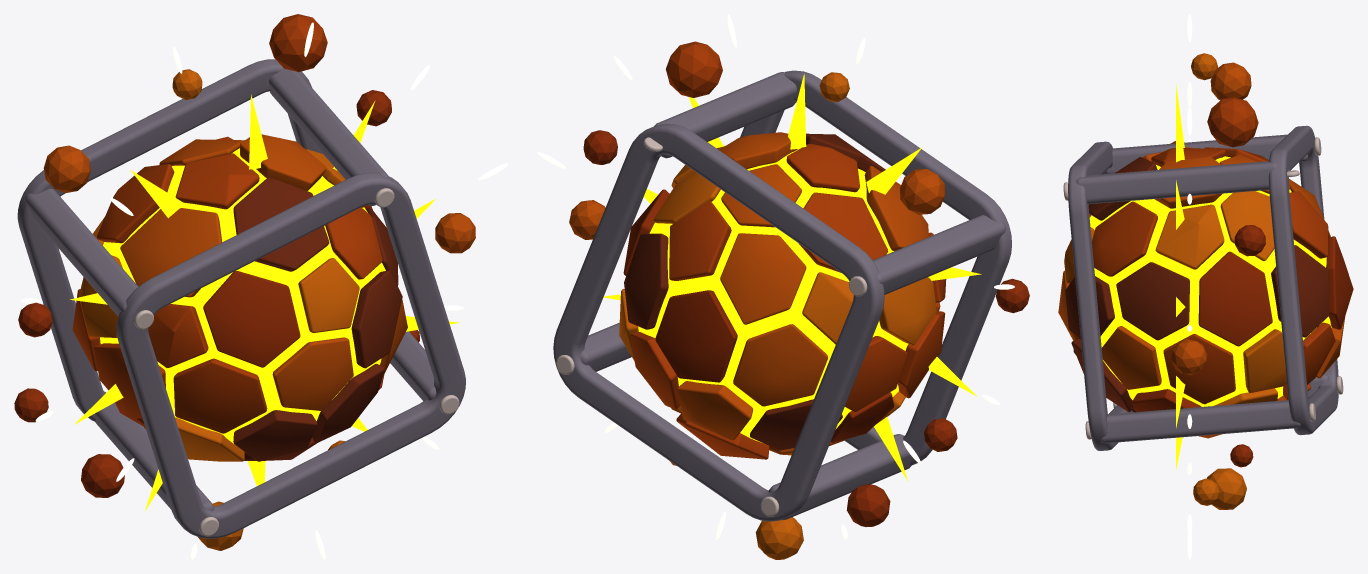
Rendered from comet-core.fbx.
The picture shows the model from 3 angles, left to right: view 1: azimuth 30°, elevation 25°; view 2: azimuth 150°, elevation 25°; view 3: azimuth 270°, elevation 25°; orthographic projection. The views are drawn at different scales.
Parts seen in each view (by area): view 1: Item_Cage_warm_gunmetal, Item_Core_basalt_1, Item_Core_basalt_4, Item_Core_basalt_2, Item_Core_golden_molten_fissures, Item_Core_basalt_3, Item_Core_basalt_0, FX_Core_basalt_0, FX_Core_golden_molten_fissures, FX_Core_basalt_2, FX_Core_basalt_1, FX_VFX_hot_gold (+2 smaller); view 2: Item_Cage_warm_gunmetal, Item_Core_basalt_2, Item_Core_basalt_1, Item_Core_golden_molten_fissures, Item_Core_basalt_0, Item_Core_basalt_3, Item_Core_basalt_4, FX_Core_basalt_0, FX_Core_golden_molten_fissures, FX_Core_basalt_2, FX_Core_basalt_1, FX_Core_basalt_3 (+2 smaller); view 3: Item_Cage_warm_gunmetal, Item_Core_basalt_1, Item_Core_basalt_4, Item_Core_basalt_3, Item_Core_golden_molten_fissures, Item_Core_basalt_0, Item_Core_basalt_2, FX_Core_basalt_3, FX_Core_basalt_2, FX_Core_basalt_1, FX_Core_basalt_0, FX_Core_golden_molten_fissures (+2 smaller).
Part boxes in pixels (<box>): Item_Cage_warm_gunmetal: <box>17,59,465,538</box>; Item_Core_basalt_1: <box>72,136,382,433</box>; Item_Core_basalt_4: <box>233,177,402,461</box>; Item_Core_basalt_2: <box>120,134,407,410</box>; Item_Core_golden_molten_fissures: <box>100,148,385,443</box>; Item_Core_basalt_3: <box>79,138,365,461</box>; Item_Core_basalt_0: <box>115,205,384,426</box>; FX_Core_basalt_0: <box>14,90,419,497</box>; FX_Core_golden_molten_fissures: <box>70,94,459,511</box>; FX_Core_basalt_2: <box>43,145,475,253</box>; FX_Core_basalt_1: <box>269,14,327,71</box>; FX_VFX_hot_gold: <box>20,22,508,559</box>; Item_Cage_warm_gunmetal: <box>553,70,1011,521</box>; Item_Core_basalt_2: <box>677,132,928,455</box>; Item_Core_basalt_1: <box>630,144,946,459</box>; Item_Core_golden_molten_fissures: <box>638,148,908,442</box>; Item_Core_basalt_0: <box>623,189,894,442</box>; Item_Core_basalt_3: <box>619,146,936,435</box>; Item_Core_basalt_4: <box>624,133,885,450</box>; FX_Core_basalt_0: <box>583,130,1029,526</box>; FX_Core_golden_molten_fissures: <box>603,74,981,481</box>; FX_Core_basalt_2: <box>569,169,945,239</box>; FX_Core_basalt_1: <box>665,41,722,97</box>; FX_Core_basalt_3: <box>670,72,849,559</box>; Item_Cage_warm_gunmetal: <box>1068,125,1338,450</box>; Item_Core_basalt_1: <box>1092,147,1335,404</box>; Item_Core_basalt_4: <box>1065,157,1329,412</box>; Item_Core_basalt_3: <box>1064,191,1286,405</box>; Item_Core_golden_molten_fissures: <box>1089,156,1331,406</box>; Item_Core_basalt_0: <box>1089,214,1353,411</box>; Item_Core_basalt_2: <box>1058,147,1345,438</box>; FX_Core_basalt_3: <box>1191,53,1246,509</box>; FX_Core_basalt_2: <box>1171,62,1251,375</box>; FX_Core_basalt_1: <box>1207,97,1258,147</box>; FX_Core_basalt_0: <box>1170,141,1265,467</box>; FX_Core_golden_molten_fissures: <box>1176,84,1185,469</box>.
Size of the model in its own units: 182 by 194 by 108.
